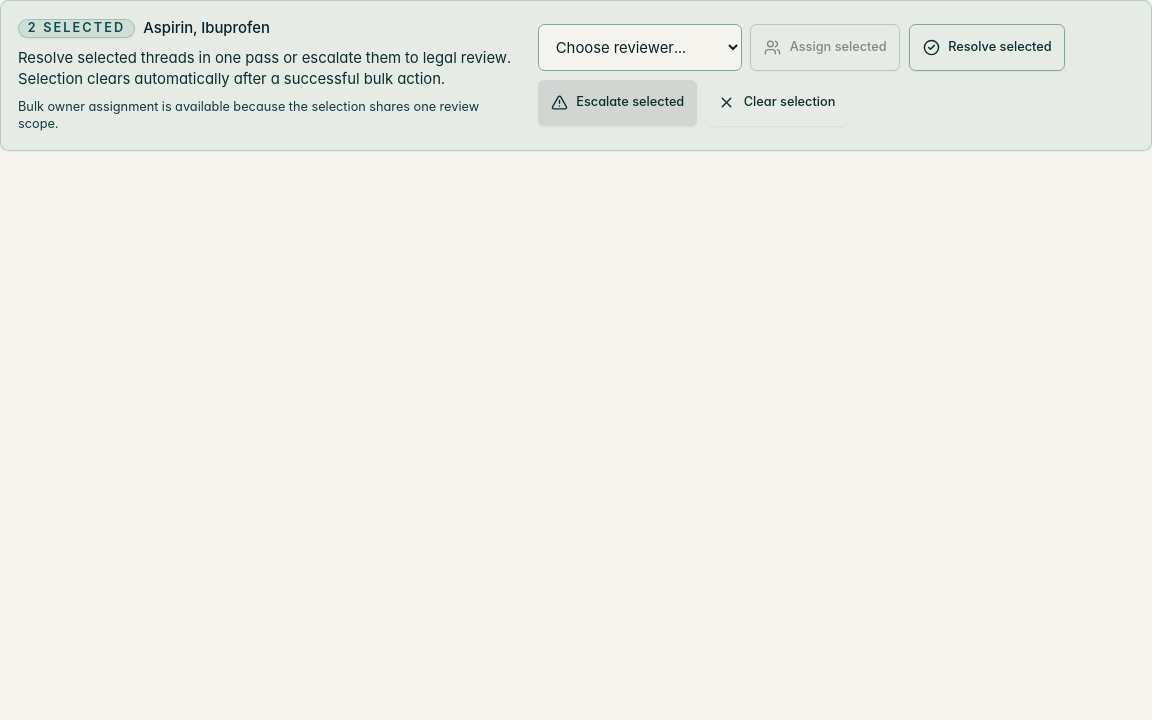
Test: ReviewQueueBulkToolbar › lets reviewers cancel a guarded bulk action without changing thread state
The image size is (1152, 720).
Click the button "Resolve selected" at (987, 48), box 909,24 -> 1065,71
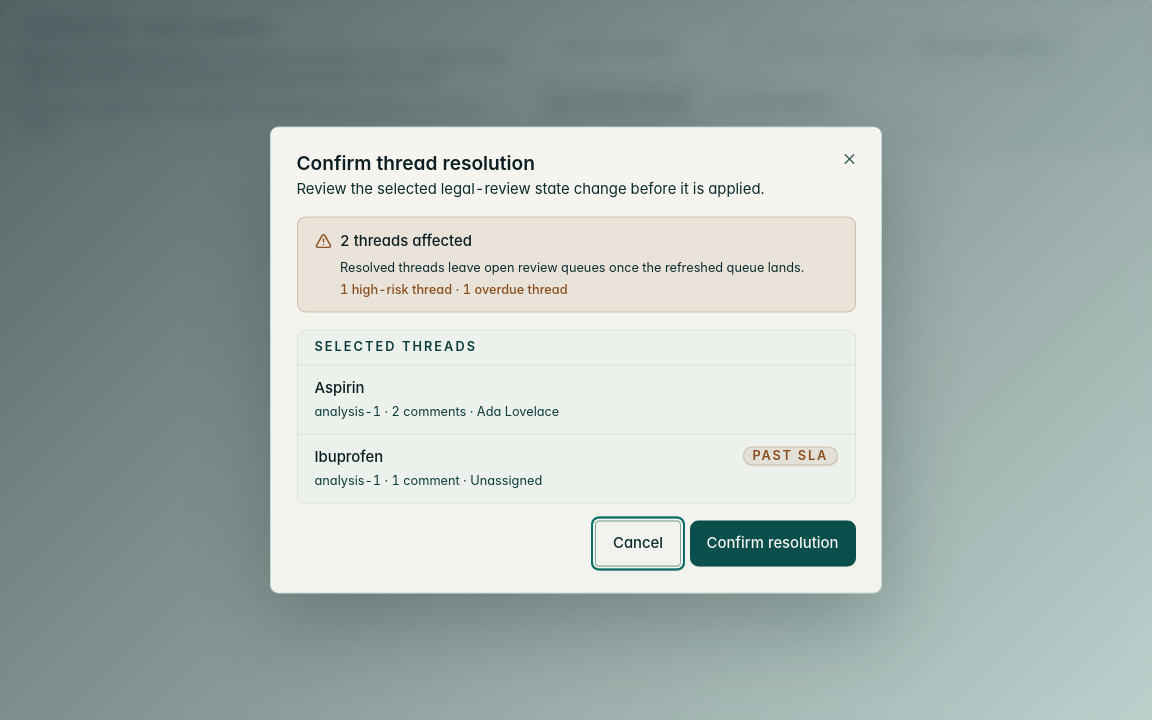
Expected: the dialog is shown, 270,126 -> 882,593
Click the button "Cancel" at (638, 544), box 595,520 -> 681,567
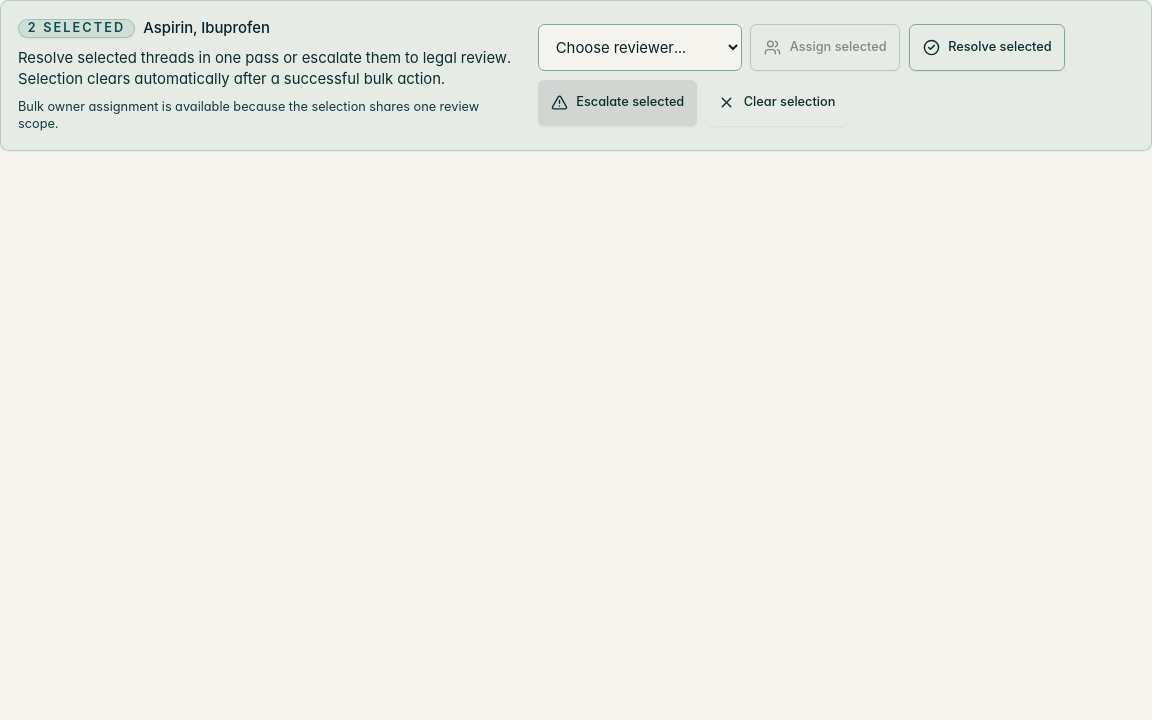
Expected: the dialog is gone
